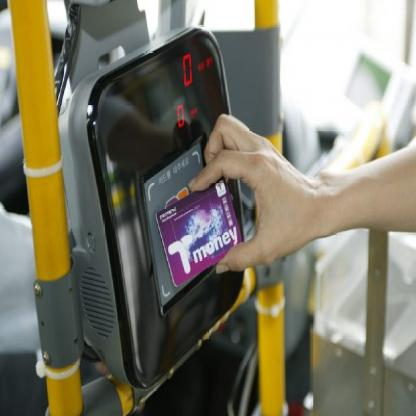tarjeta: (154, 174, 243, 290)
